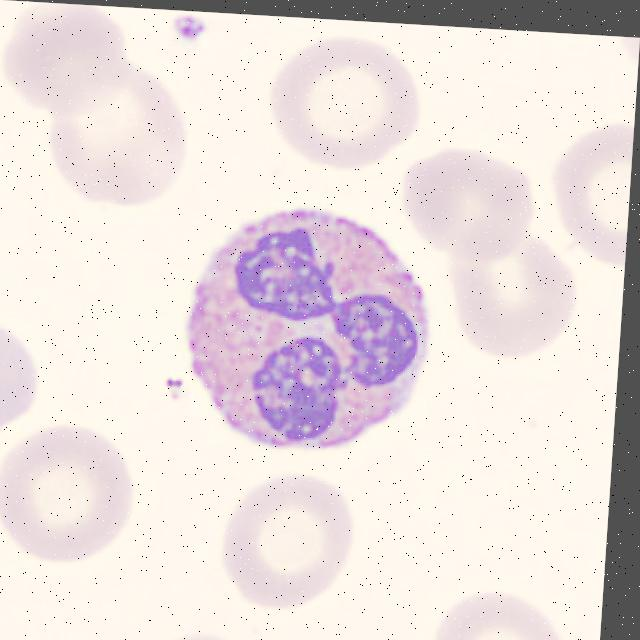eosinophil: (181, 192, 440, 461)
rbc: (262, 31, 434, 176), (205, 471, 367, 620), (42, 62, 189, 217), (0, 419, 151, 569), (394, 134, 549, 265), (450, 230, 587, 369), (0, 1, 141, 130), (552, 109, 635, 271), (419, 582, 575, 640), (0, 308, 50, 472), (138, 624, 271, 640), (604, 36, 640, 87)
